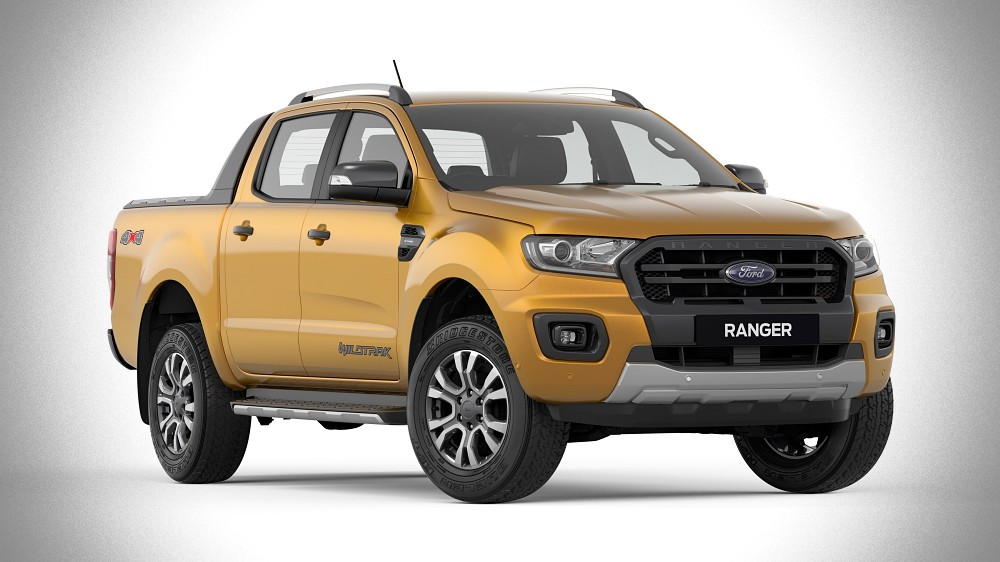pickup: (99, 74, 901, 511)
